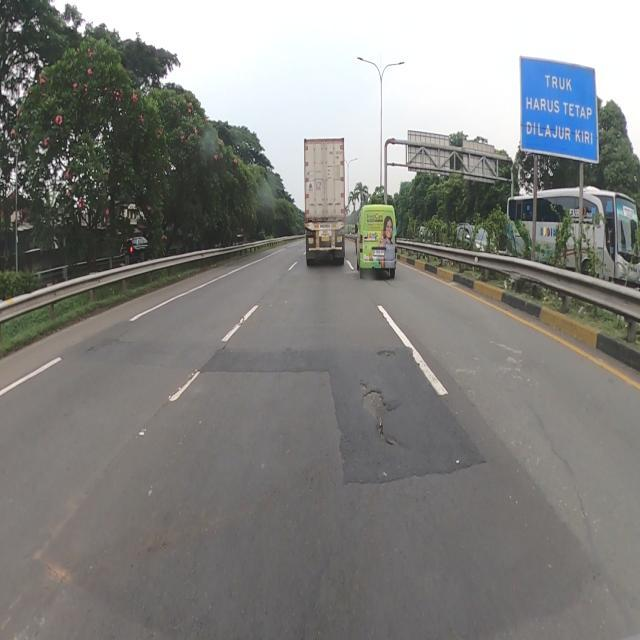Buraco: (357, 380, 403, 450), (374, 349, 399, 362)
